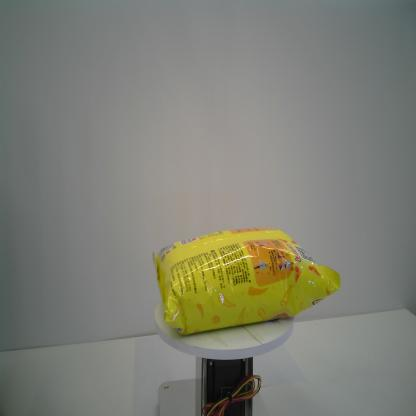Puffed Food: (152, 226, 341, 335)
